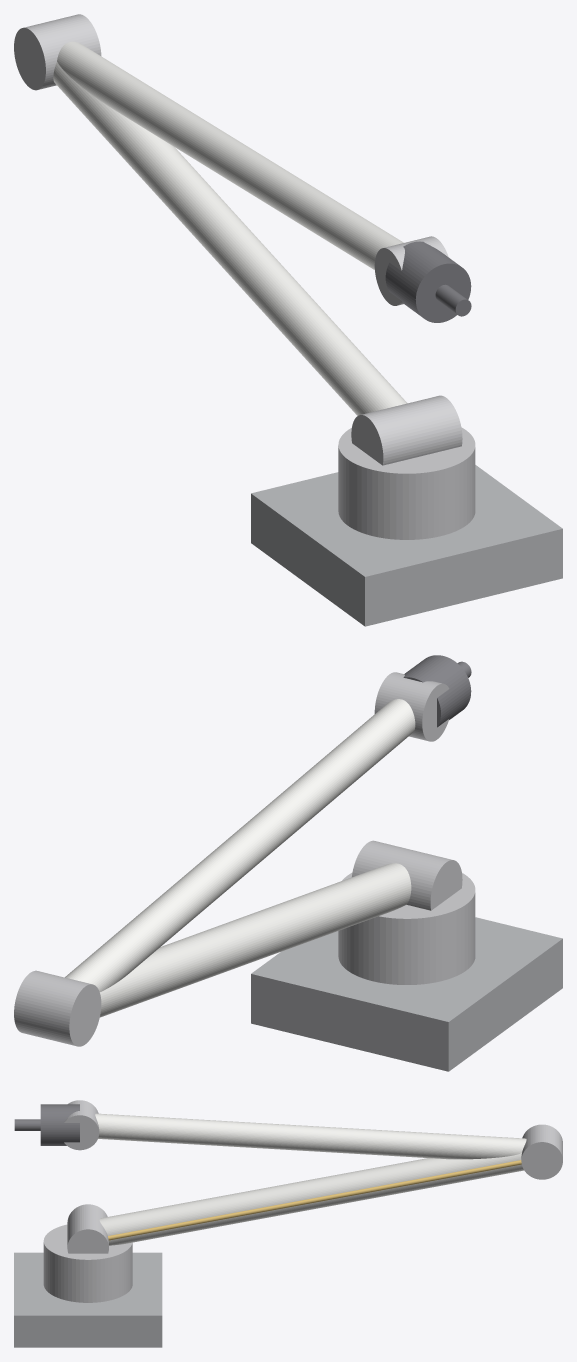
The model's file is rover30_robotic_arm_m.glb.
The picture shows the model from 3 angles, top to bottom: view 1: azimuth 30°, elevation 25°; view 2: azimuth 150°, elevation 25°; view 3: azimuth 270°, elevation 25°; orthographic projection. The views are drawn at different scales.
Visible parts, largest first — view 1: base, arm_link1, arm_turret, arm_link2, arm_tool, arm_elbow, arm_wrist; view 2: base, arm_link2, arm_link1, arm_turret, arm_elbow, arm_wrist, arm_tool; view 3: arm_link2, arm_link1, base, arm_turret, arm_cable, arm_elbow, arm_tool, arm_wrist.
Boxes of the visible parts, <box> form: base: <box>251,465,562,626</box>; arm_link1: <box>53,62,407,415</box>; arm_turret: <box>338,395,475,539</box>; arm_link2: <box>57,41,403,269</box>; arm_tool: <box>385,241,471,322</box>; arm_elbow: <box>14,14,101,90</box>; arm_wrist: <box>374,236,448,305</box>; base: <box>251,917,562,1071</box>; arm_link2: <box>65,699,415,991</box>; arm_link1: <box>100,863,411,1017</box>; arm_turret: <box>338,840,475,984</box>; arm_elbow: <box>14,970,101,1046</box>; arm_wrist: <box>374,672,449,741</box>; arm_tool: <box>403,655,471,727</box>; arm_link2: <box>95,1113,526,1159</box>; arm_link1: <box>99,1153,523,1245</box>; base: <box>14,1252,162,1347</box>; arm_turret: <box>43,1204,132,1302</box>; arm_cable: <box>108,1160,521,1240</box>; arm_elbow: <box>521,1124,562,1179</box>; arm_tool: <box>14,1104,79,1145</box>; arm_wrist: <box>64,1100,99,1150</box>.
Bounding box in the file's own units: 0.5 × 0.7803 × 1.85.
